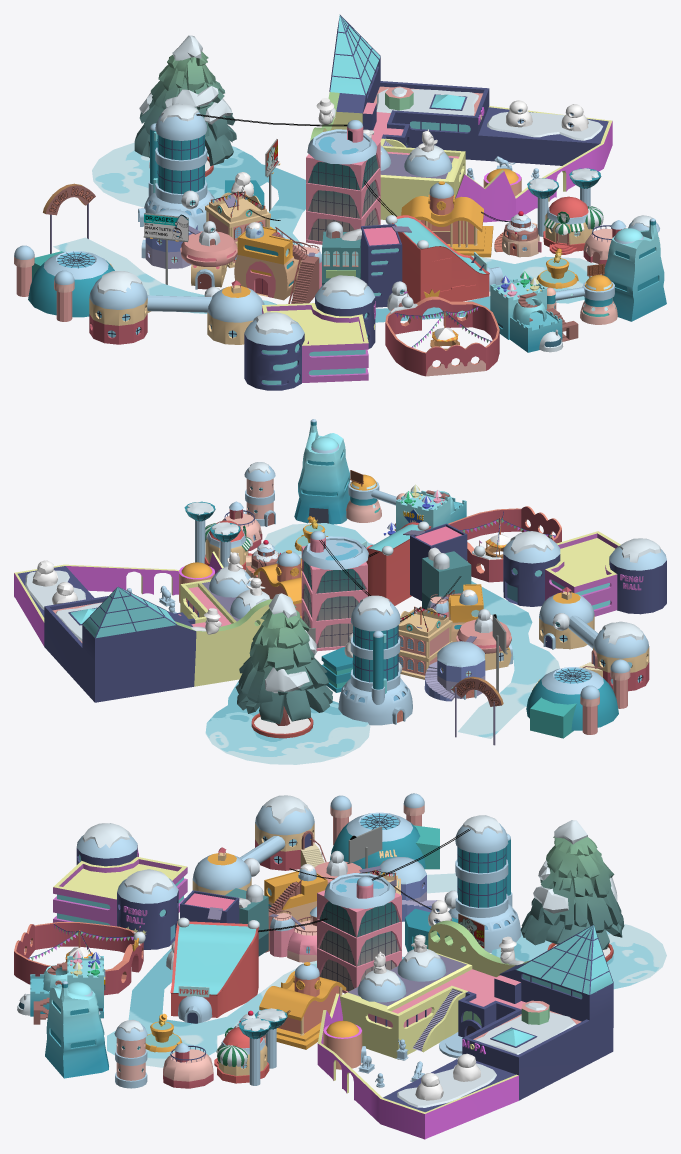
Rendered from Neighborhood_PenguPlaza_03.fbx.
The picture shows the model from 3 angles, top to bottom: view 1: azimuth 30°, elevation 25°; view 2: azimuth 150°, elevation 25°; view 3: azimuth 270°, elevation 25°; orthographic projection. The views are drawn at different scales.
Parts seen in each view (by area): view 1: pasted__polySurface204, pasted__polySurface198, pasted__pCylinder3, pasted__pCylinder31, pasted__pCube113, pasted__pasted__pasted__Tree_17, pasted__pasted__typeMesh2, pasted__polySurface200, pasted__pSphere35, pasted__polySurface194, pasted__pSphere43, pasted__pasted__polySurface16 (+23 smaller); view 2: pasted__polySurface204, pasted__pCylinder3, pasted__polySurface198, pasted__pasted__pasted__Tree_17, pasted__pCylinder31, pasted__pSphere35, pasted__polySurface194, pasted__pCube113, pasted__pSphere43, pasted__polySurface200, pasted__pasted__typeMesh2, pasted__pasted__polySurface90 (+25 smaller); view 3: pasted__polySurface204, pasted__polySurface198, pasted__pCylinder3, pasted__pasted__pasted__Tree_17, pasted__pCylinder31, pasted__pasted__typeMesh2, pasted__pSphere35, pasted__pCube113, pasted__pSphere43, pasted__polySurface194, pasted__polySurface200, pasted__polySurface188 (+24 smaller).
Part boxes in pixels (x1,y1,x2,y2): pasted__polySurface204: (310, 14, 612, 222); pasted__polySurface198: (244, 284, 375, 390); pasted__pCylinder3: (53, 142, 601, 322); pasted__pCylinder31: (306, 120, 380, 244); pasted__pCube113: (89, 277, 264, 344); pasted__pasted__pasted__Tree_17: (134, 35, 236, 166); pasted__pasted__typeMesh2: (364, 180, 502, 303); pasted__polySurface200: (385, 289, 499, 376); pasted__pSphere35: (144, 112, 214, 231); pasted__polySurface194: (14, 245, 114, 321); pasted__pSphere43: (603, 218, 666, 321); pasted__pasted__polySurface16: (490, 276, 578, 352); pasted__polySurface204: (14, 551, 272, 702); pasted__pCylinder3: (205, 523, 559, 764); pasted__polySurface198: (503, 531, 666, 616); pasted__pasted__pasted__Tree_17: (235, 593, 332, 725); pasted__pCylinder31: (301, 531, 368, 651); pasted__pSphere35: (338, 601, 412, 725); pasted__polySurface194: (526, 659, 630, 738); pasted__pCube113: (539, 587, 649, 691); pasted__pSphere43: (294, 419, 349, 524); pasted__polySurface200: (448, 506, 561, 582); pasted__pasted__typeMesh2: (361, 522, 431, 605); pasted__pasted__polySurface90: (398, 606, 452, 679); pasted__polySurface204: (317, 920, 613, 1139); pasted__polySurface198: (53, 835, 187, 949); pasted__pCylinder3: (107, 873, 666, 1067); pasted__pasted__pasted__Tree_17: (520, 820, 624, 949); pasted__pCylinder31: (317, 873, 401, 993); pasted__pasted__typeMesh2: (170, 907, 327, 1023); pasted__pSphere35: (448, 823, 521, 952); pasted__pCube113: (192, 804, 326, 895); pasted__pSphere43: (45, 981, 108, 1078); pasted__polySurface194: (330, 793, 439, 869); pasted__polySurface200: (14, 922, 143, 995); pasted__polySurface188: (259, 962, 346, 1049).
Size of the model in its own units: 6772 by 1694 by 6211.
